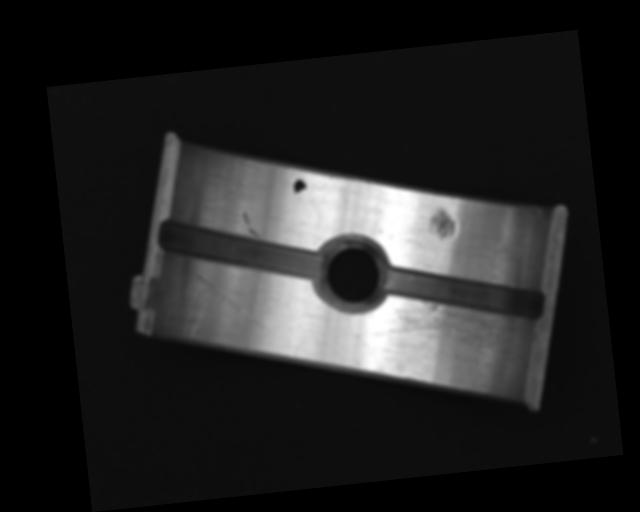blot: (292, 177, 308, 199)
bruise: (425, 206, 457, 242)
gap: (157, 203, 322, 293), (379, 251, 546, 334)
hole: (314, 234, 391, 316)
nick: (190, 264, 265, 337), (242, 208, 260, 240)
scratch: (366, 288, 540, 384)
